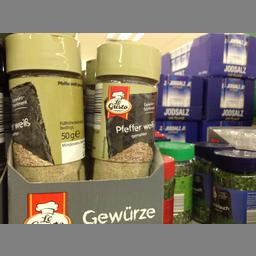spices: (4, 32, 86, 182), (90, 39, 156, 178), (210, 148, 255, 222)
